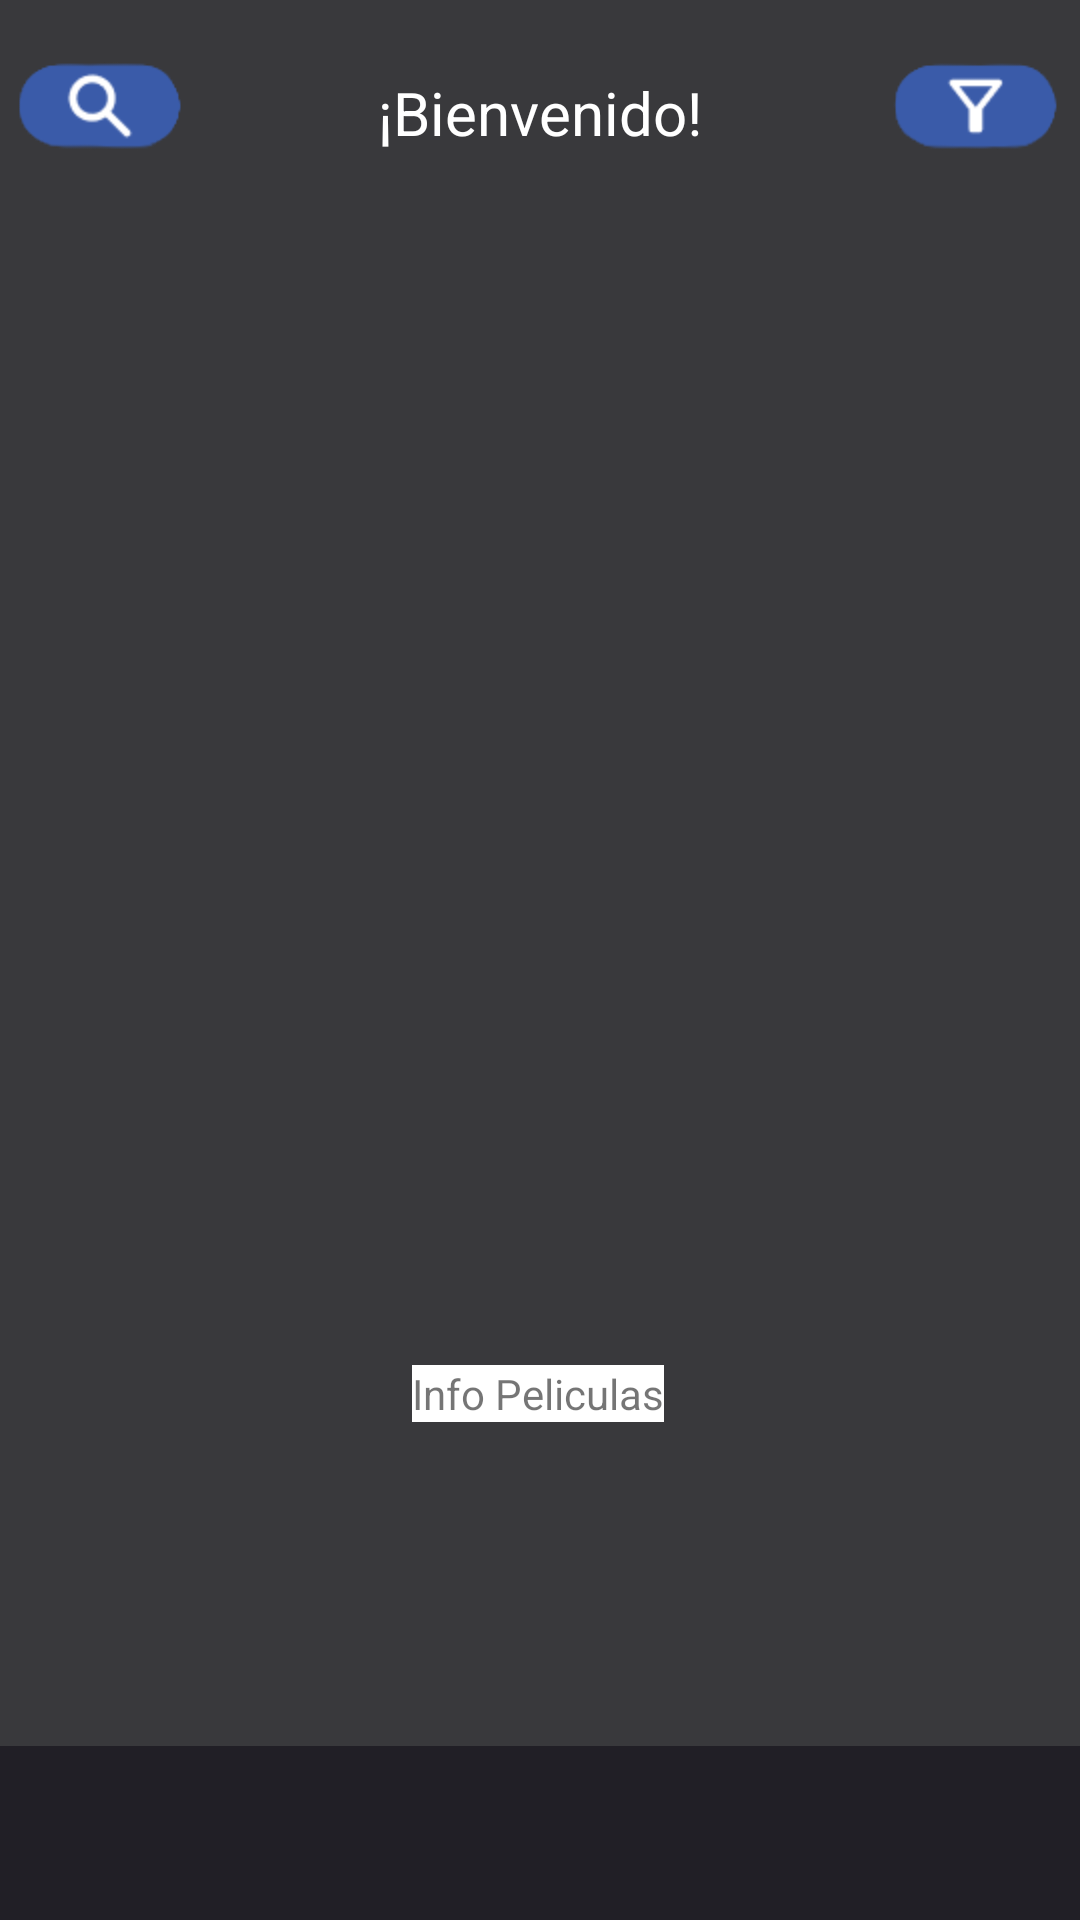

Where icons sit on this 1080×1920 app screen, as (x1, y1, x2, y2):
filtro: (895, 64, 1057, 148)
search: (19, 64, 181, 148)
